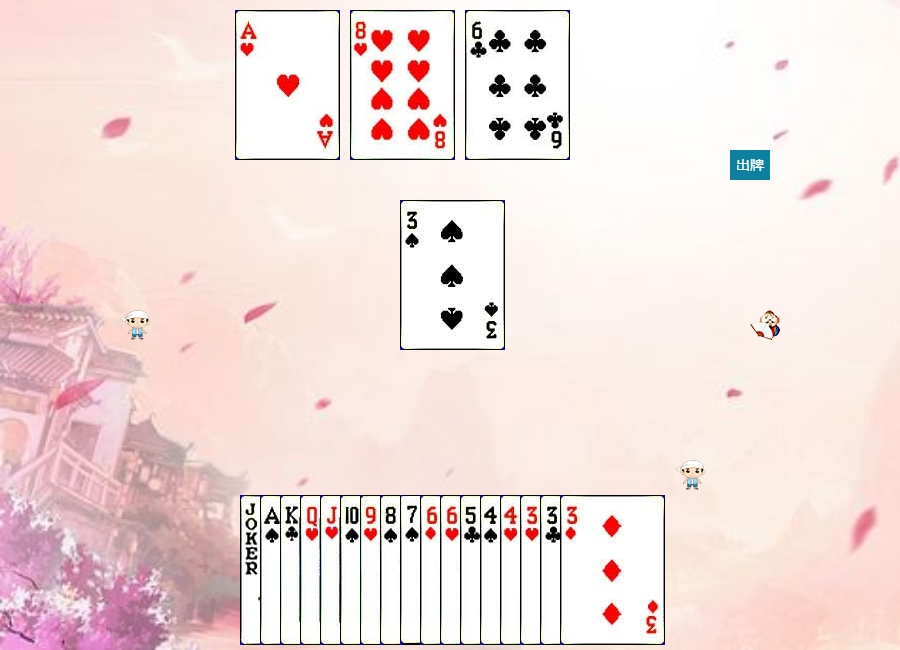10~4: (340, 495, 445, 645)
11~3: (320, 495, 425, 645)
12~3: (300, 495, 405, 645)
13~2: (280, 495, 385, 645)
14~3: (235, 10, 340, 160)
14~4: (260, 495, 365, 645)
17~3: (240, 495, 345, 645)
3~1: (560, 495, 665, 645)
3~2: (540, 495, 645, 645)
3~3: (520, 495, 625, 645)
3~4: (400, 200, 505, 350)
4~3: (500, 495, 605, 645)
4~4: (480, 495, 585, 645)
5~2: (460, 495, 565, 645)
6~1: (420, 495, 525, 645)
6~2: (465, 10, 570, 160)
6~3: (440, 495, 545, 645)
7~4: (400, 495, 505, 645)
8~3: (350, 10, 455, 160)
8~4: (380, 495, 485, 645)
9~3: (360, 495, 465, 645)
